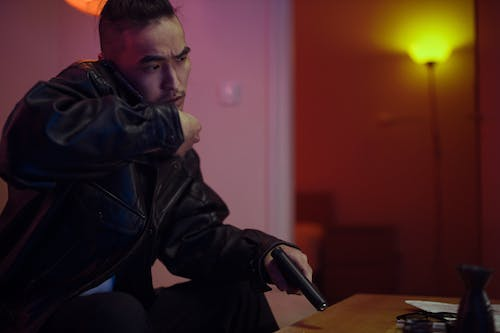gun: (269, 244, 329, 313)
